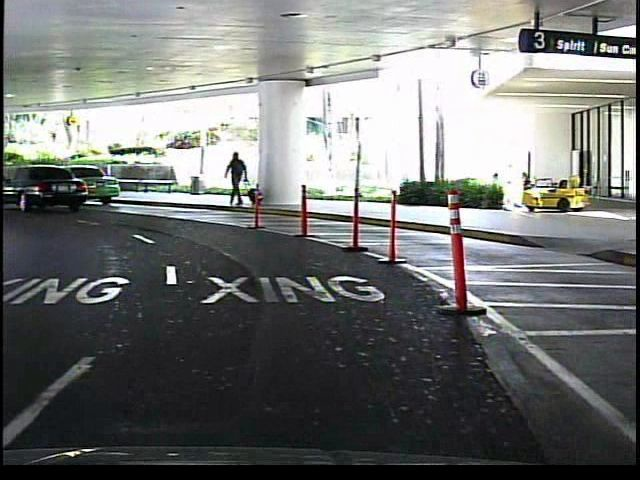person: (222, 147, 250, 212)
